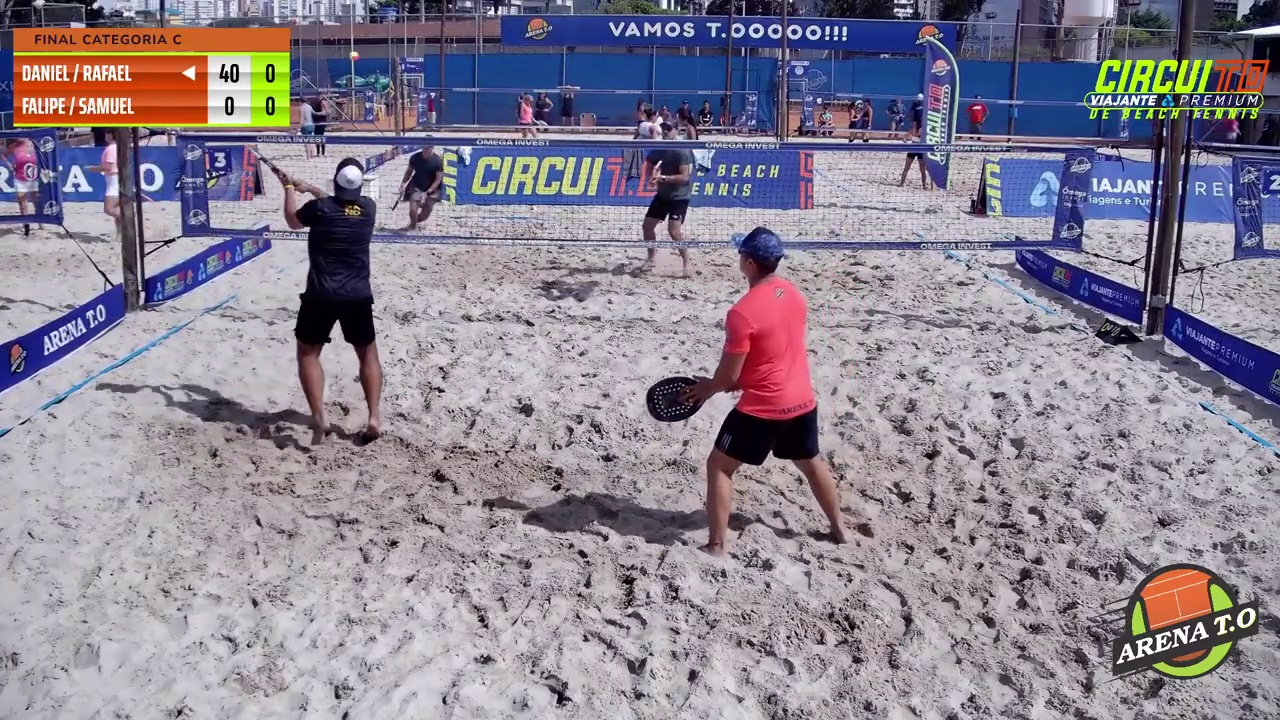court_line: (501, 0, 652, 412)
